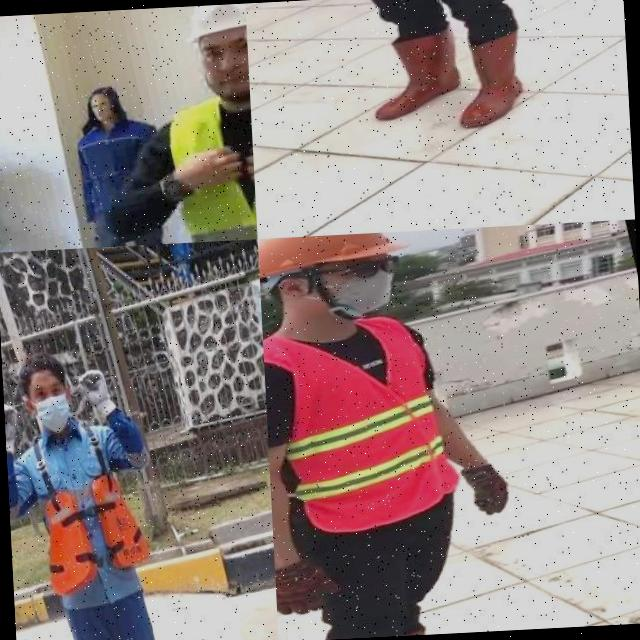boots: (357, 26, 472, 124), (443, 27, 538, 132)
helmet: (258, 232, 401, 287), (180, 4, 248, 46)
vest: (262, 304, 466, 545), (18, 423, 158, 600), (145, 68, 258, 245)
